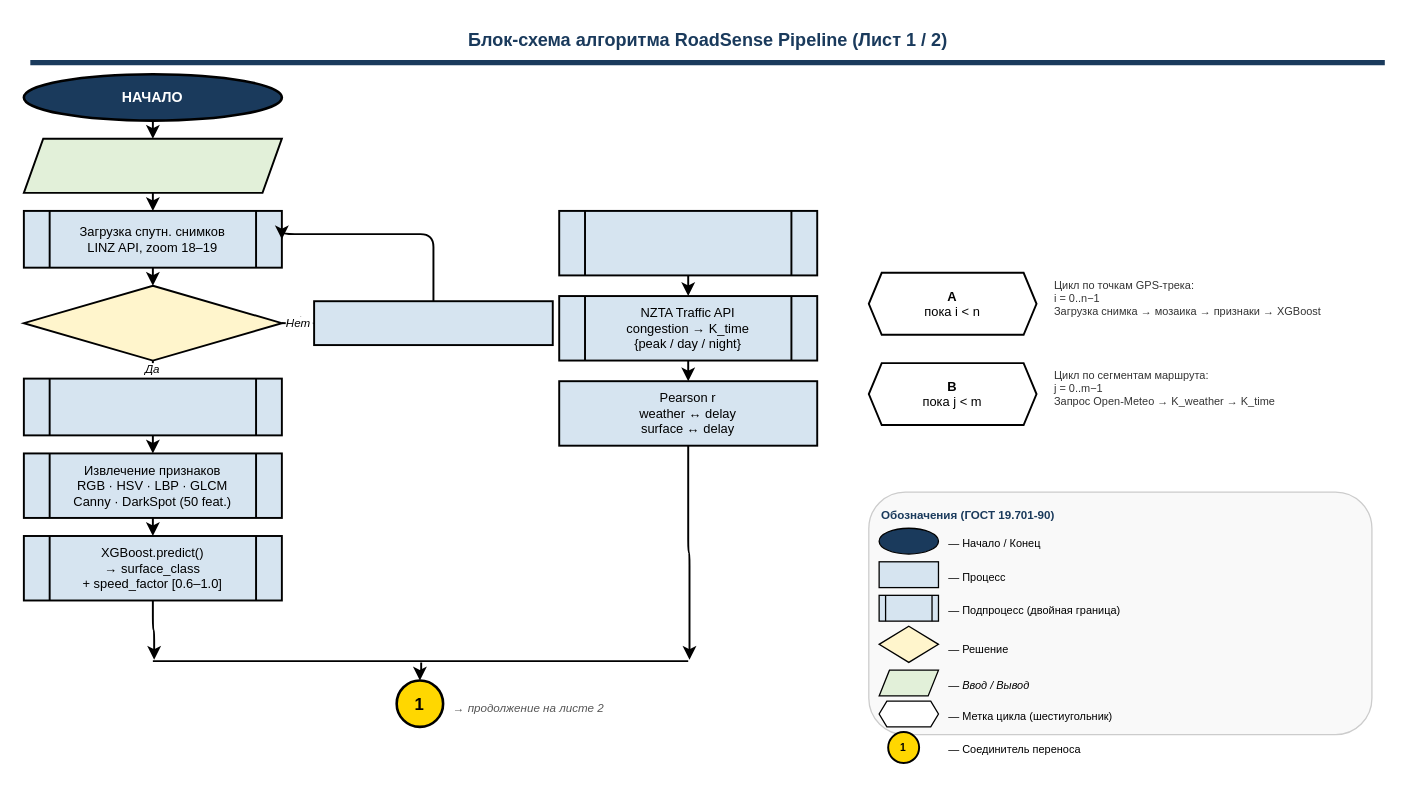
This 1409x786 diagram has some shape labels left out. The centre of each missing label's shape, as x and y in pixels:
Open-Meteo API precipitation → weather {fine / rain / heavy_rain}: the point at 688,242
Ввод: GPS-трек (.gpx) lat, lon, n точек: the point at 152,165
Мозаика 3×3 (768×768 px) surface_cache[key]: the point at 152,406
Пропуск точки / следующая: the point at 433,322
Снимок загружен?: the point at 152,322
